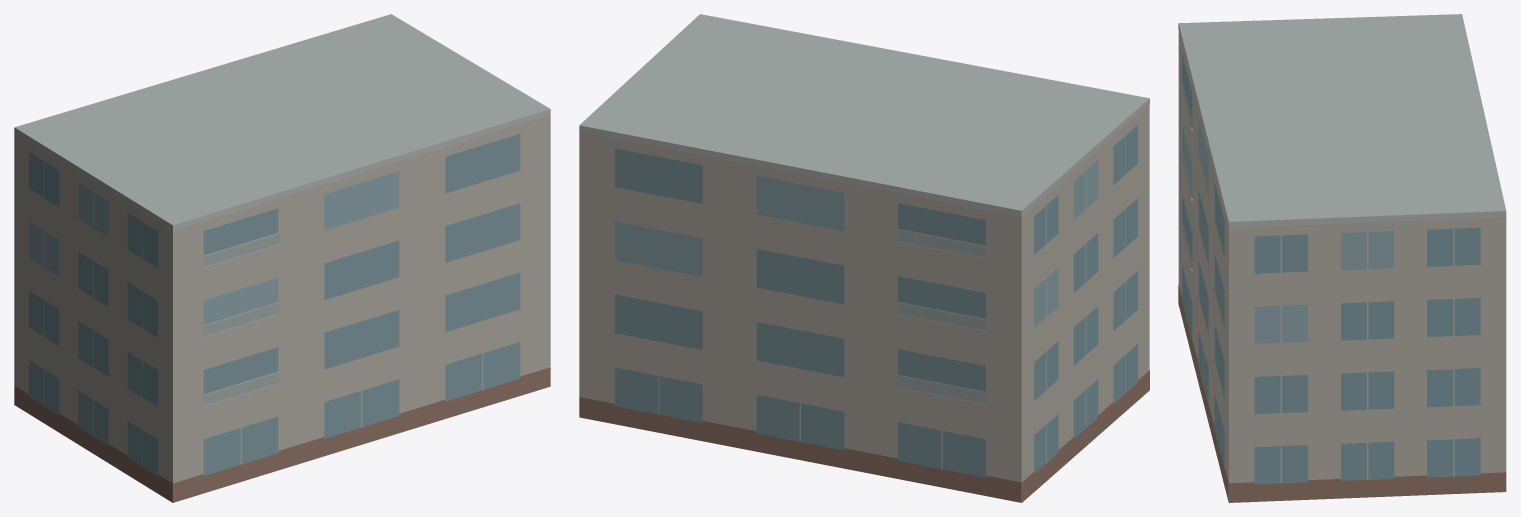
The model's file is survey-upis-32799375.glb.
3 renders of one model, left to right at view 1: azimuth 30°, elevation 25°; view 2: azimuth 150°, elevation 25°; view 3: azimuth 270°, elevation 25°, orthographic. The views are drawn at different scales.
Visible parts, largest first — view 1: survey-upis-32799375.tmp; view 2: survey-upis-32799375.tmp; view 3: survey-upis-32799375.tmp.
Boxes of the visible parts, x1,y1,x2,y2 form: survey-upis-32799375.tmp: [14, 14, 550, 502]; survey-upis-32799375.tmp: [579, 14, 1149, 502]; survey-upis-32799375.tmp: [1178, 14, 1506, 502].
Size of the model in its own units: 18.27 by 11.5 by 12.17.
